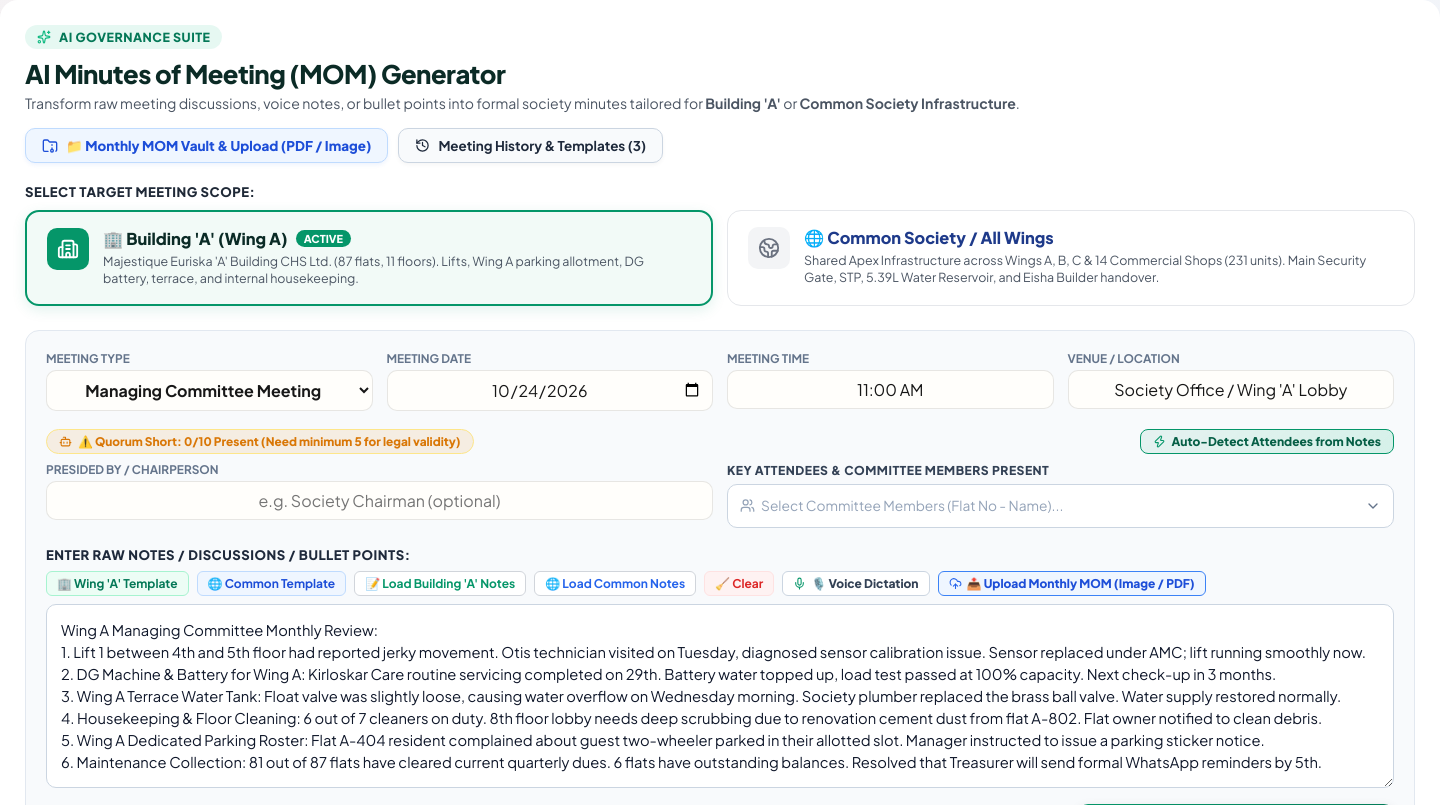
AiMomGenerator Component › loads sample notes when clicking helper sample buttons
This screenshot has width=1440, height=805.
Step 1. Click the button "🌐 Load Common Notes" → (615, 583), box 534,571 -> 696,596
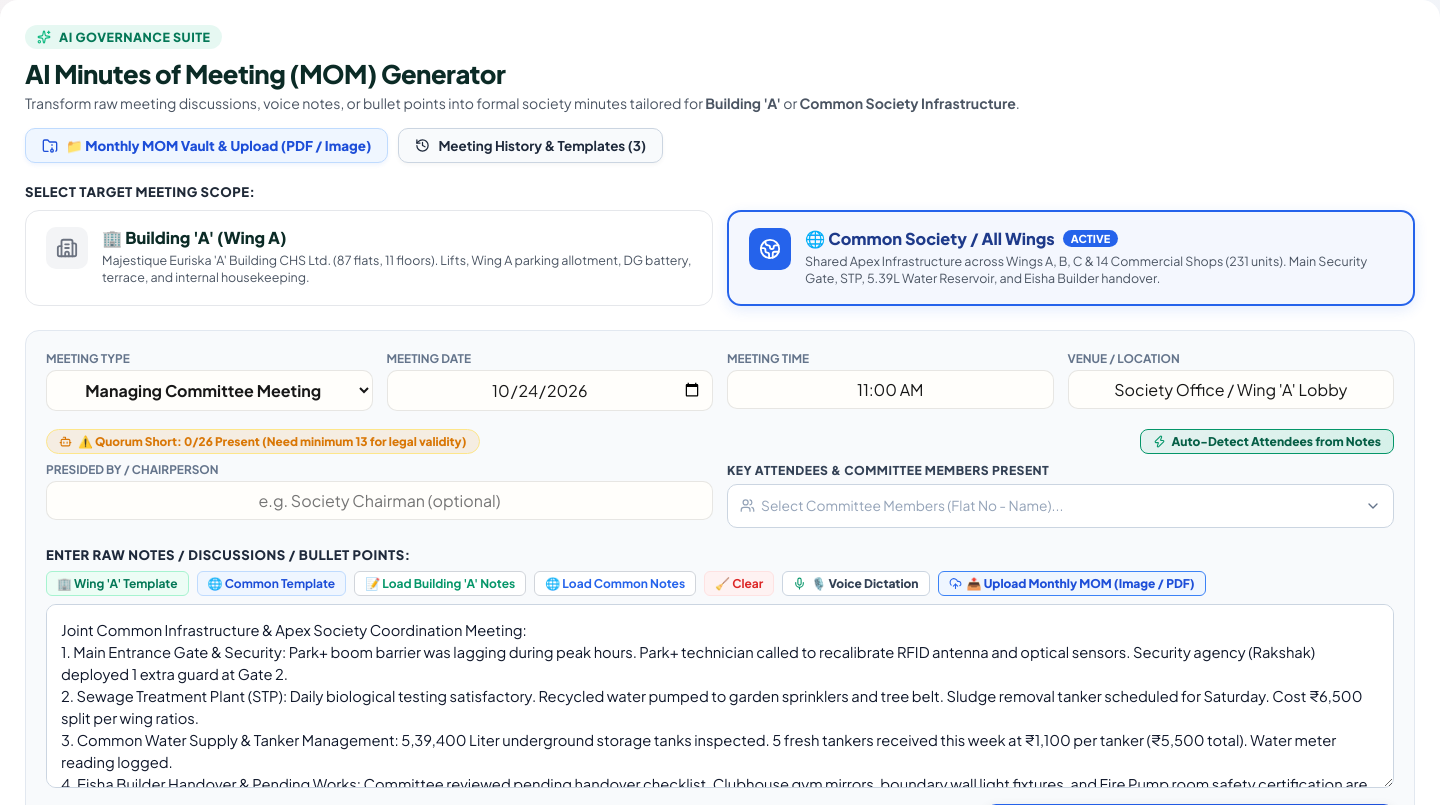
Step 2. Click the button "🧹 Clear" → (739, 583), box 704,571 -> 774,596
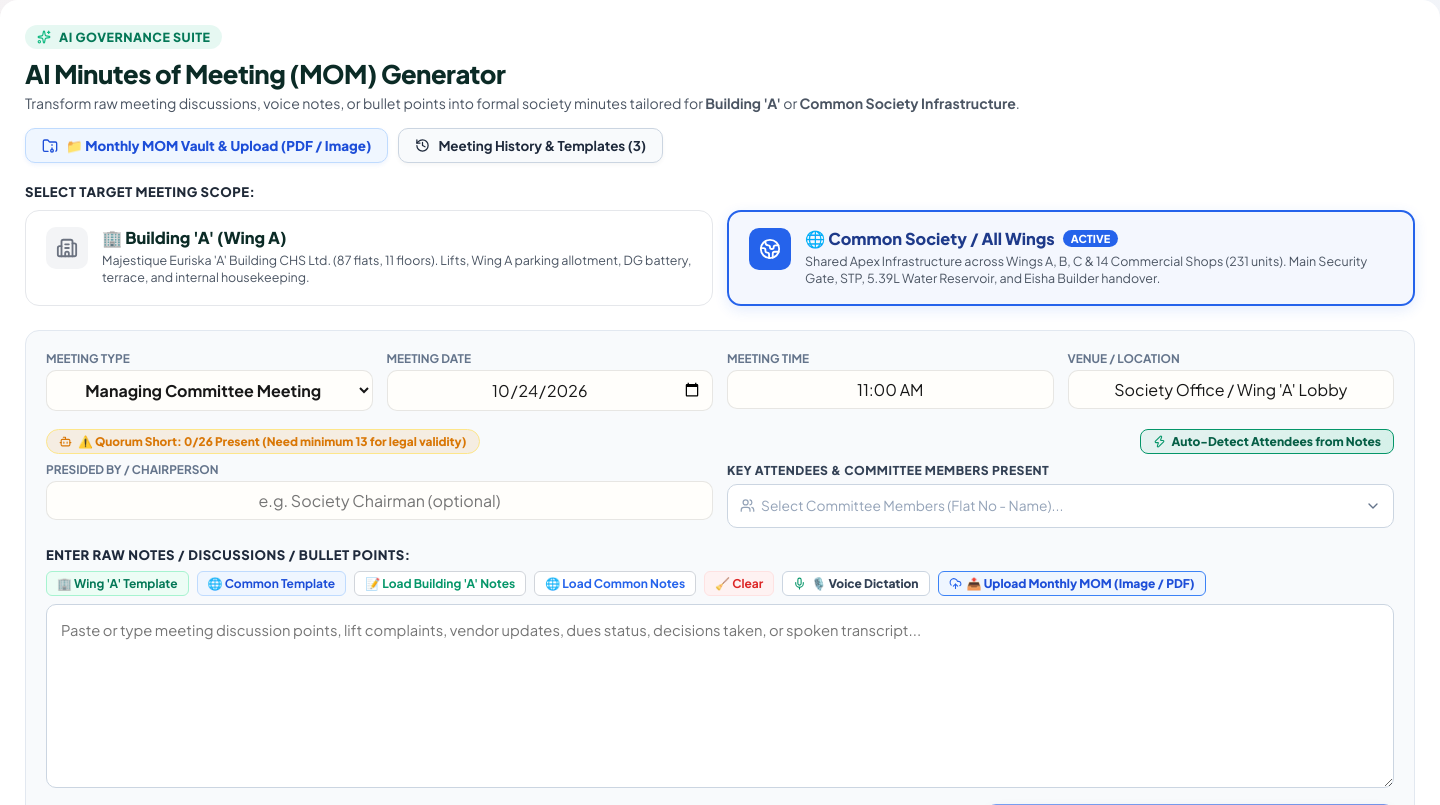
Expected: the text box with placeholder "Paste or type meeting discussion points" is empty, 46,604 -> 1394,788
